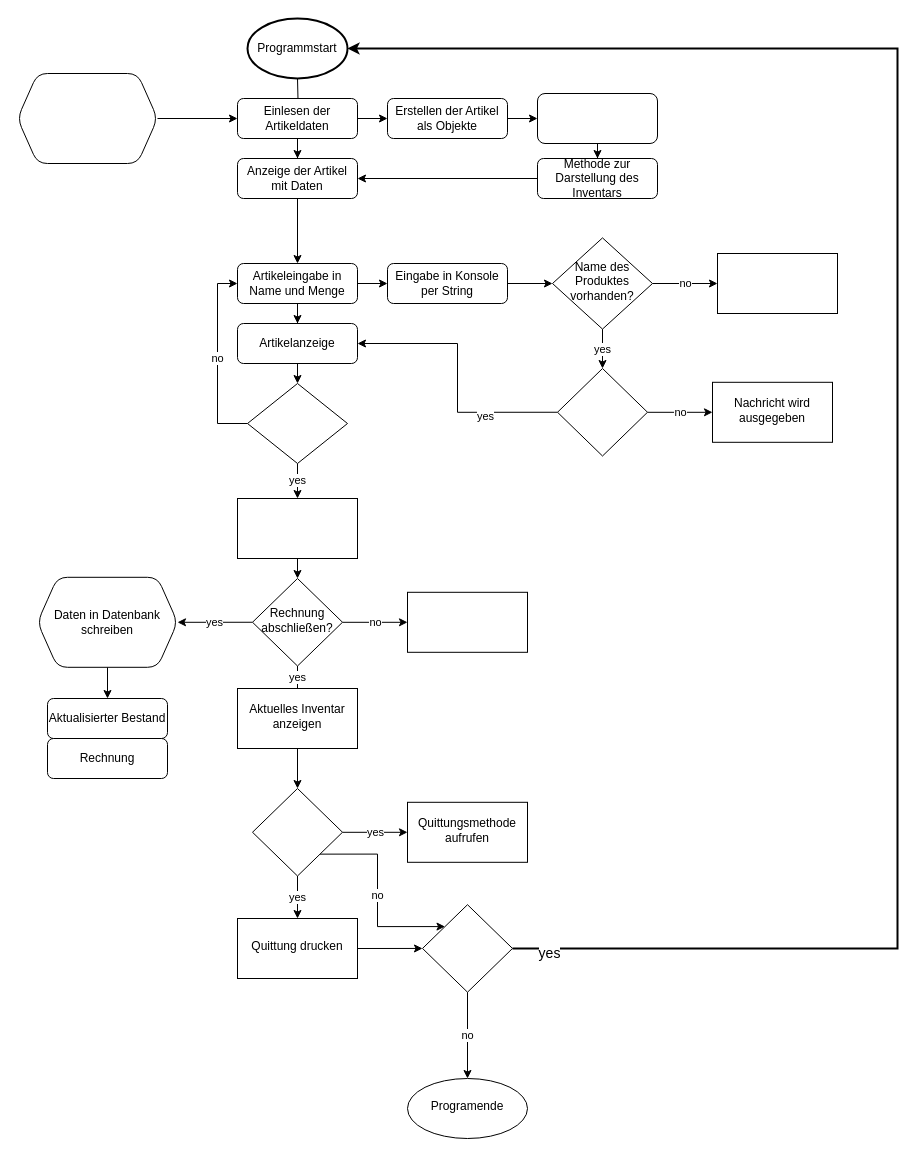
The diagram is 924 pixels wide and 1156 high, and some of its shapes have lost their labels. Here are the shapes that lost their labels. From the top down, the centre of each, then its label:
the point at 87,118: Daten aus Datenbank Vorerst manuelle Daten
the point at 597,118: Speicherung der Artikel als Inventar in einem Array
the point at 777,283: nichts passiert, kann später nicht vorkommen
the point at 297,423: fertig?
the point at 602,412: Menge des Produktes vorhanden?
the point at 297,528: Anzeige Gesamtrechnung
the point at 467,621: Alles verwerfen
the point at 297,832: Quittung drucken?
the point at 467,948: Nächste Rechnung?
